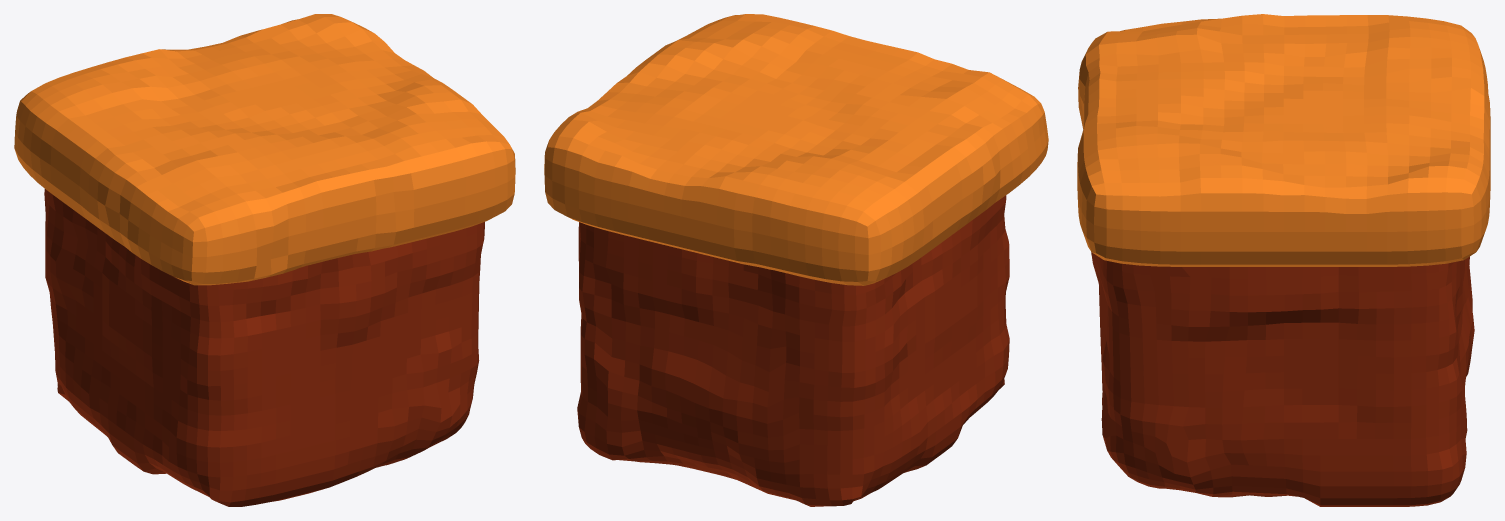
File: BasicBlock2_edit.fbx
3 renders of one model, left to right at view 1: azimuth 30°, elevation 25°; view 2: azimuth 150°, elevation 25°; view 3: azimuth 270°, elevation 25°, orthographic. The views are drawn at different scales.
Visible parts, largest first — view 1: block2_grass_1; view 2: block2_grass_1; view 3: block2_grass_1.
Part boxes in pixels (x1=…): block2_grass_1: x1=14, y1=14, x2=515, y2=506; block2_grass_1: x1=544, y1=14, x2=1048, y2=506; block2_grass_1: x1=1077, y1=14, x2=1490, y2=506.
Size of the model in its own units: 239 by 222 by 227.
